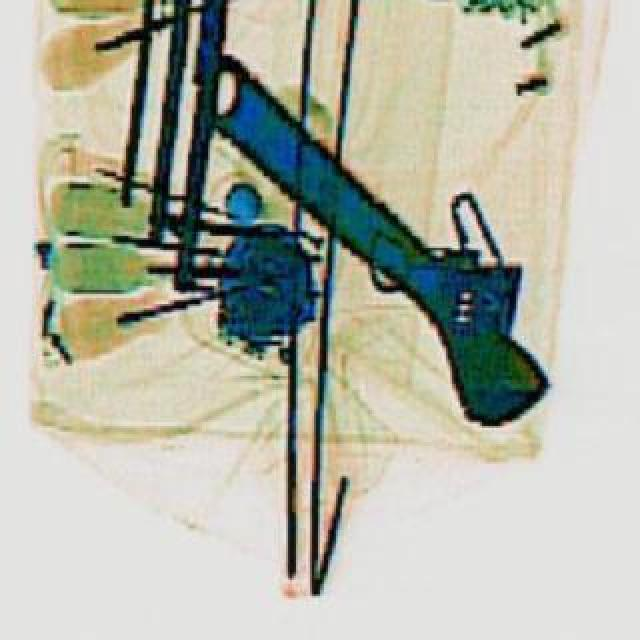scissors: (144, 12, 600, 440)
